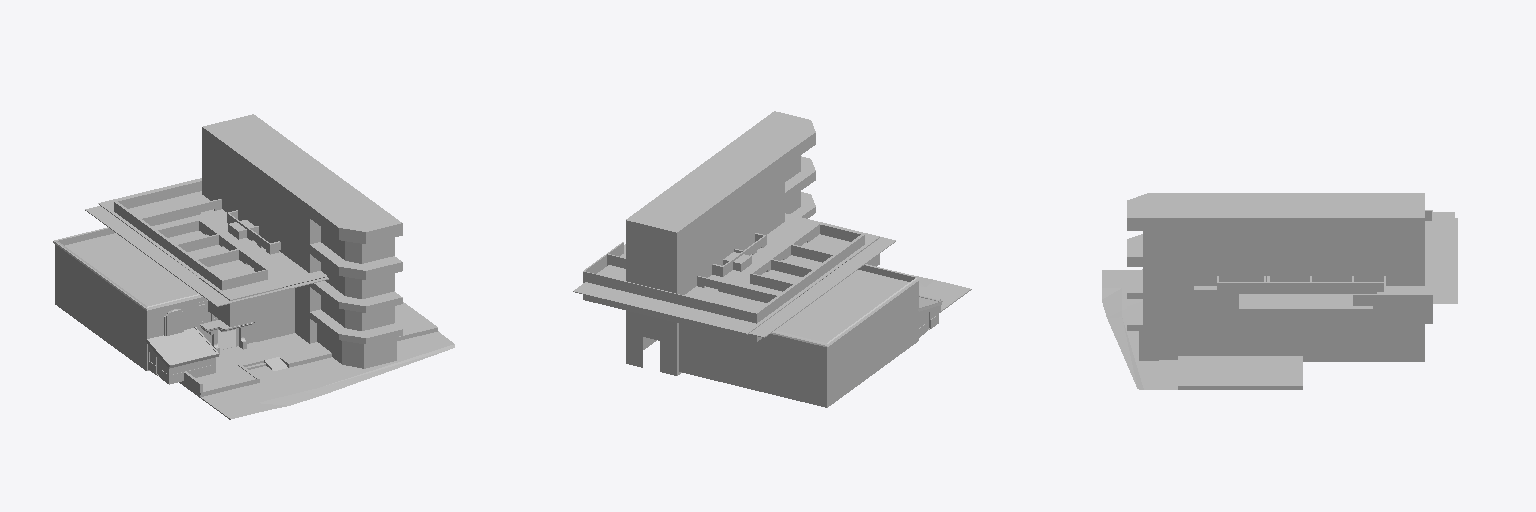
Rendered from hospital.obj.
The picture shows the model from 3 angles: view 1: azimuth 30°, elevation 25°; view 2: azimuth 150°, elevation 25°; view 3: azimuth 270°, elevation 25°; orthographic projection.
Visible parts, largest first — view 1: Ceiling_Plane.015; view 2: Ceiling_Plane.015; view 3: Ceiling_Plane.015.
Boxes of the visible parts, <box> form: Ceiling_Plane.015: <box>53,114,454,419</box>; Ceiling_Plane.015: <box>573,111,971,407</box>; Ceiling_Plane.015: <box>1102,193,1457,389</box>.
Bounding box in the file's own units: 28.96 × 15.1 × 34.03.